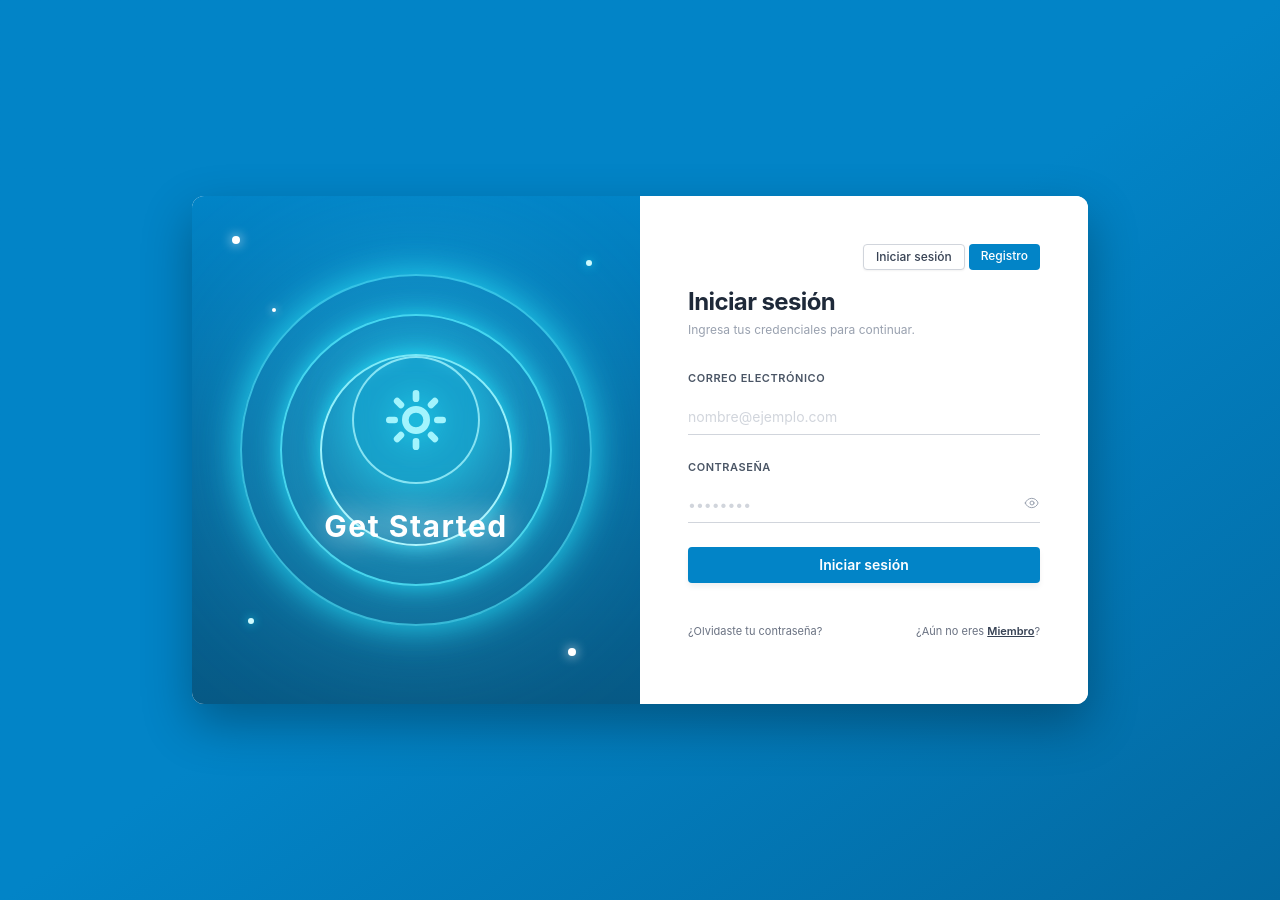
Scenario: LoginPage › shows the server error when login fails
Type "admin@example.com" into the field labelled "Correo electrónico". click: (864, 417)
box: 688,399 -> 1040,435
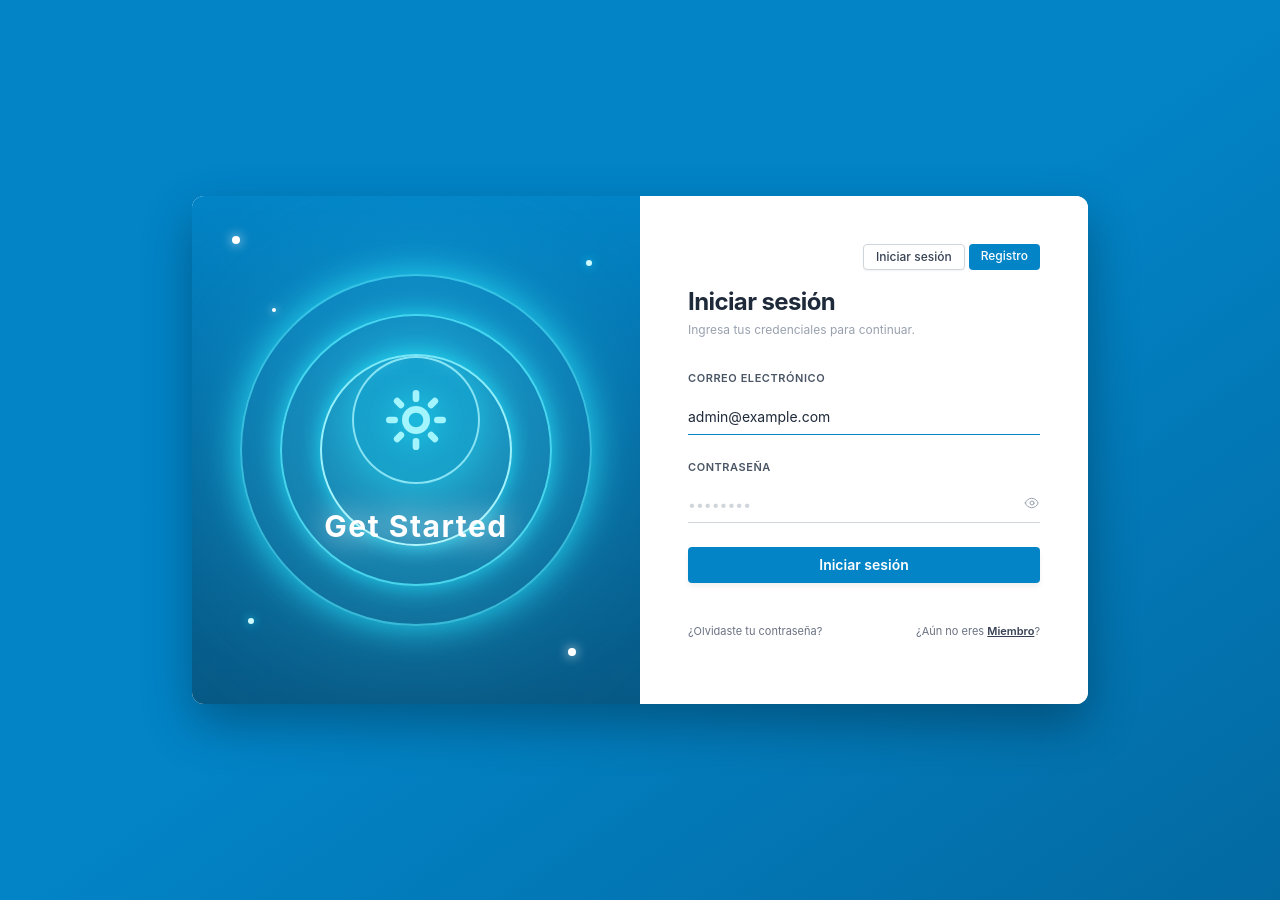
Type "pasrd" into the password field labelled "Contraseña". click: (864, 505)
box: 688,487 -> 1040,523
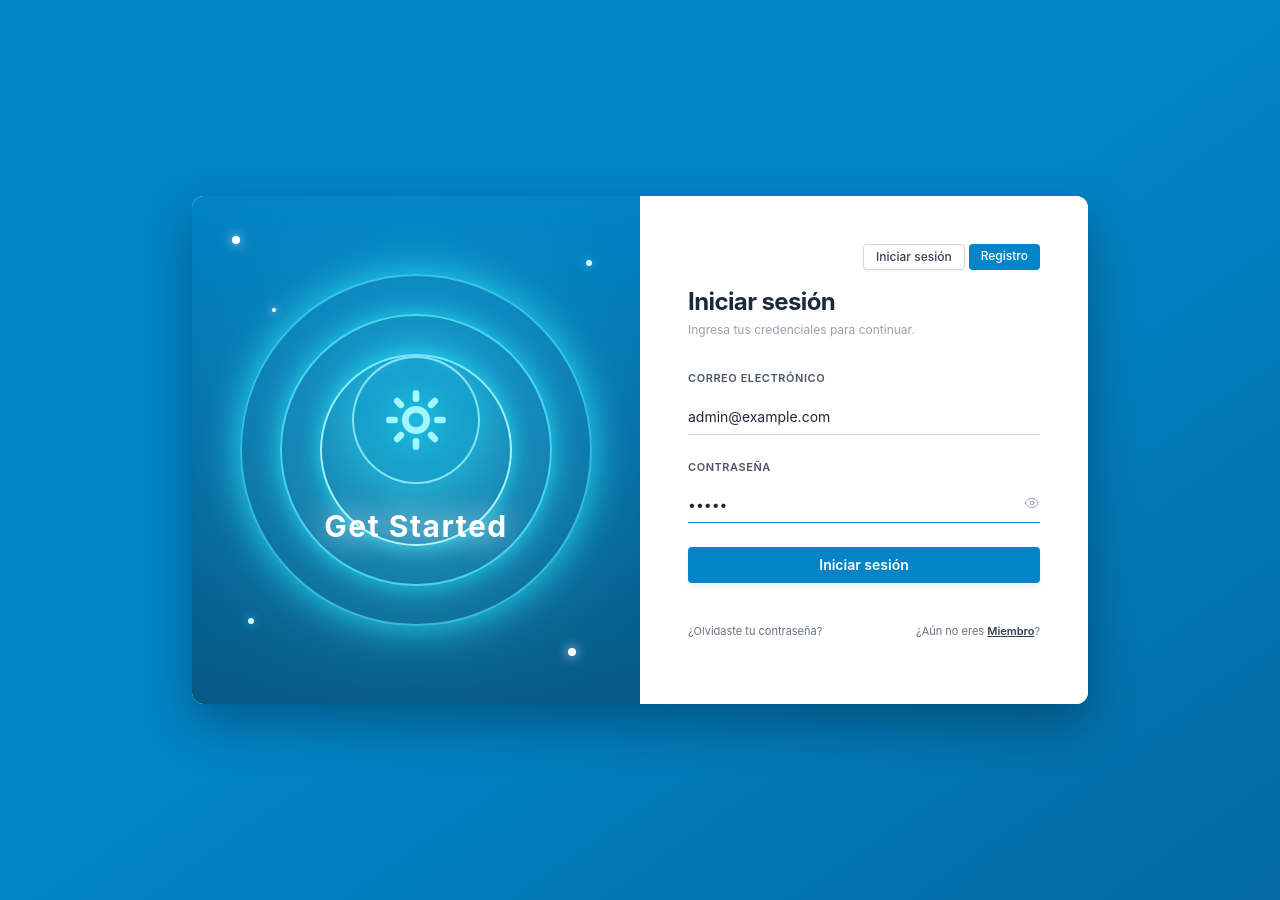
Click the button "Iniciar sesión". click: (864, 565)
box: 688,547 -> 1040,583
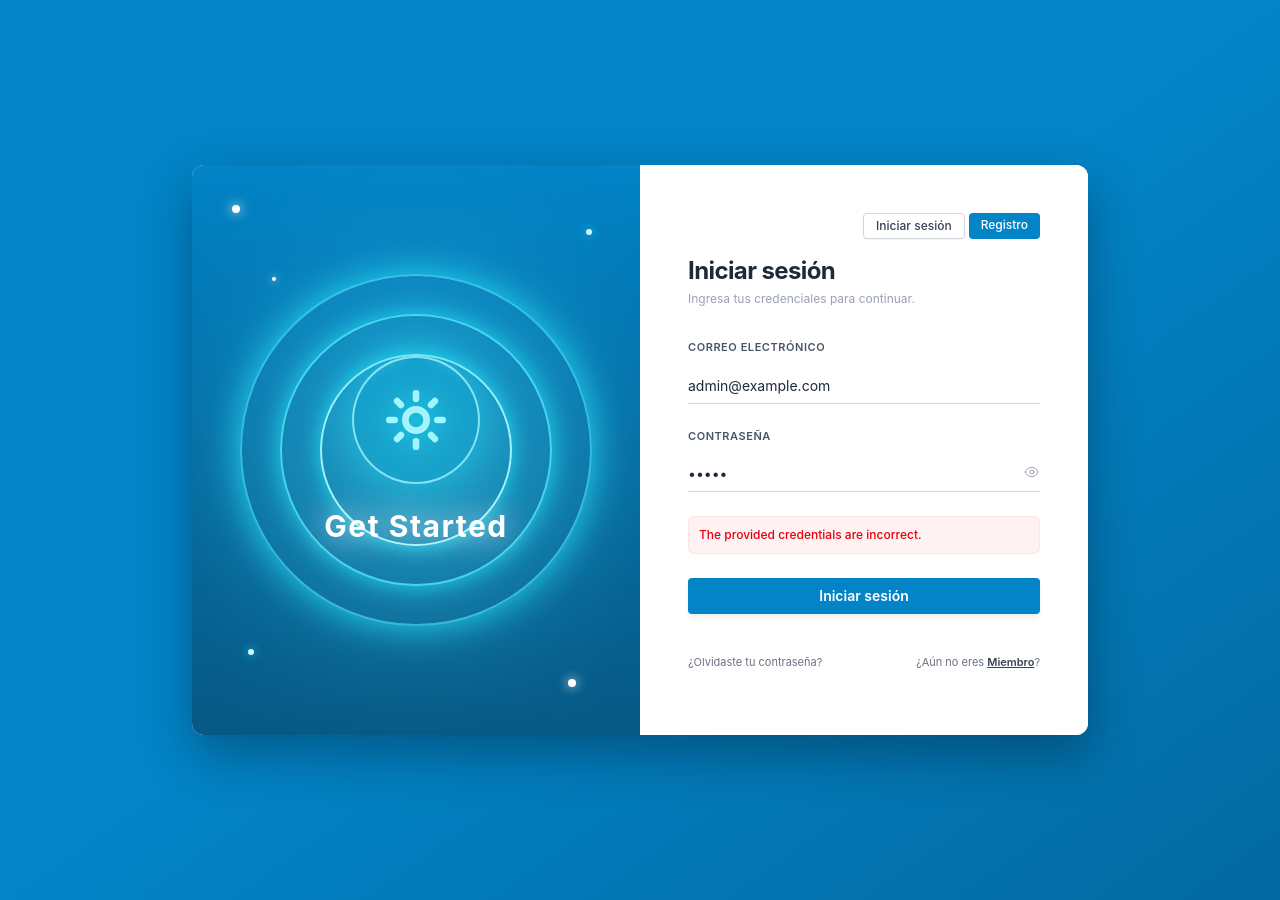
Expected: the text "The provided credentials are incorrect." is shown, 688,516 -> 1040,554
